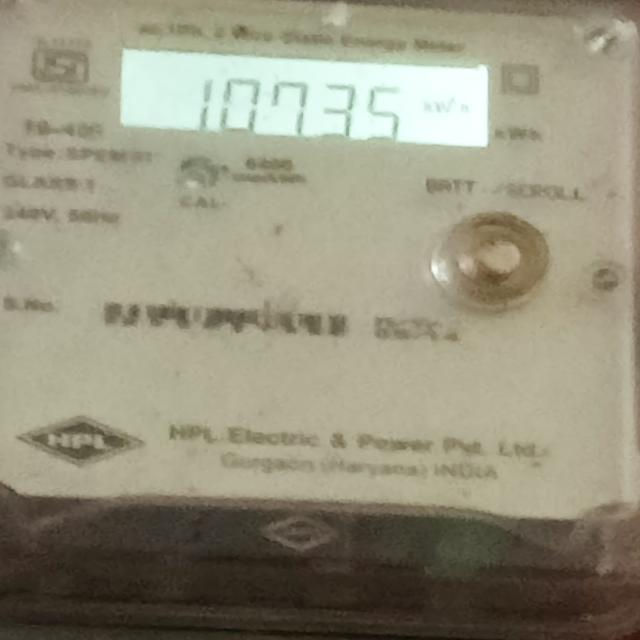display: (111, 44, 501, 146)
